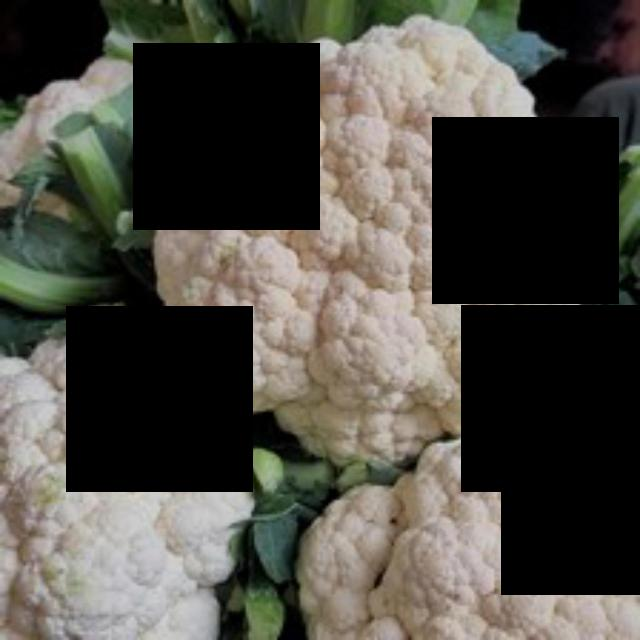cauliflower: (150, 9, 595, 470)
